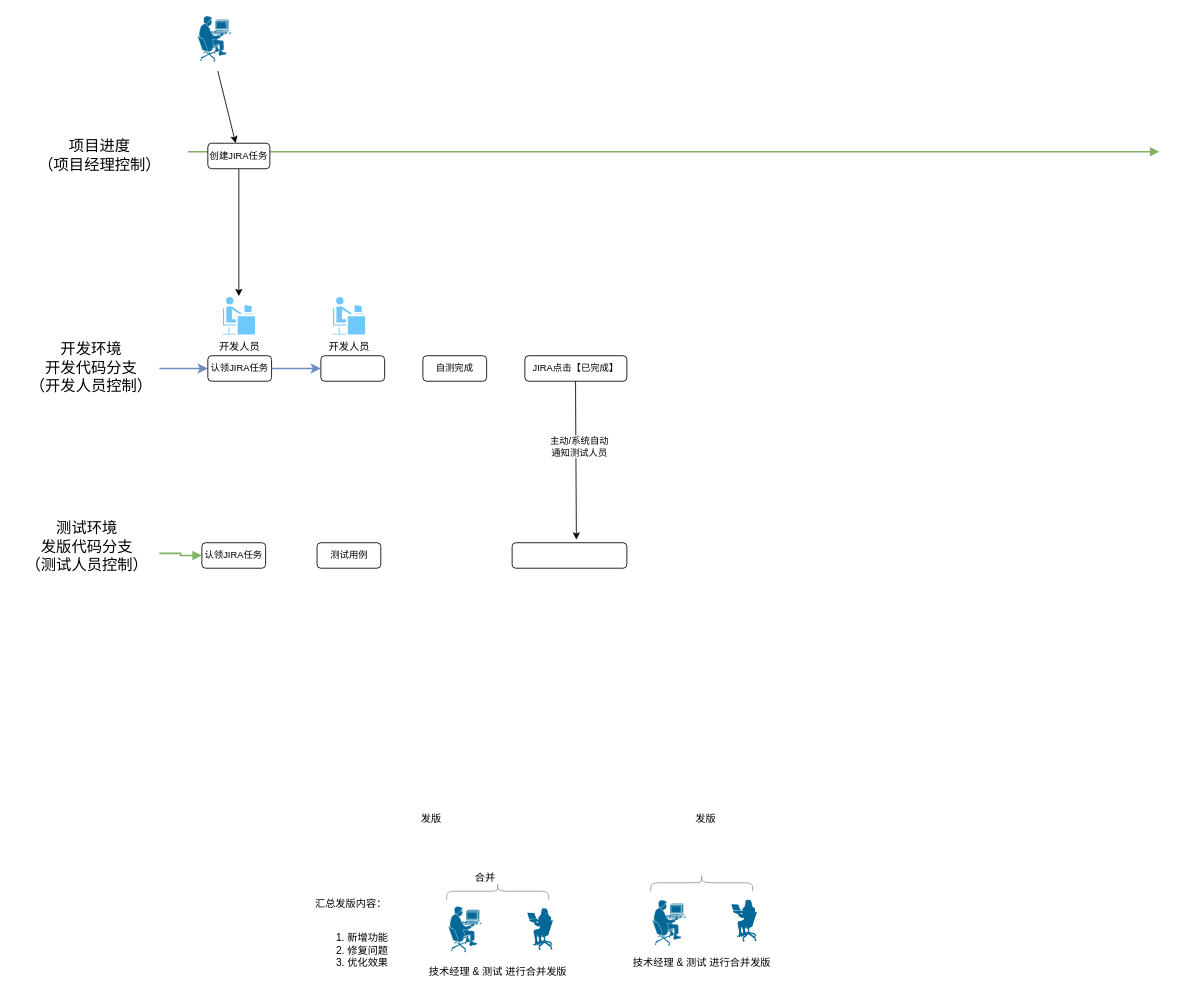
Some shapes in this 1182 by 999 pixel diagram are drawn without their labels. The shapes that lost their labels are listed below. From the top down, each one's box as (x1, y1, x2, y2) in pixels, then its label:
(196, 14, 232, 63): 项目经理/开发经理
(320, 355, 385, 381): 提交代码...
(511, 542, 627, 568): 查看开发提测JIRA LIST
